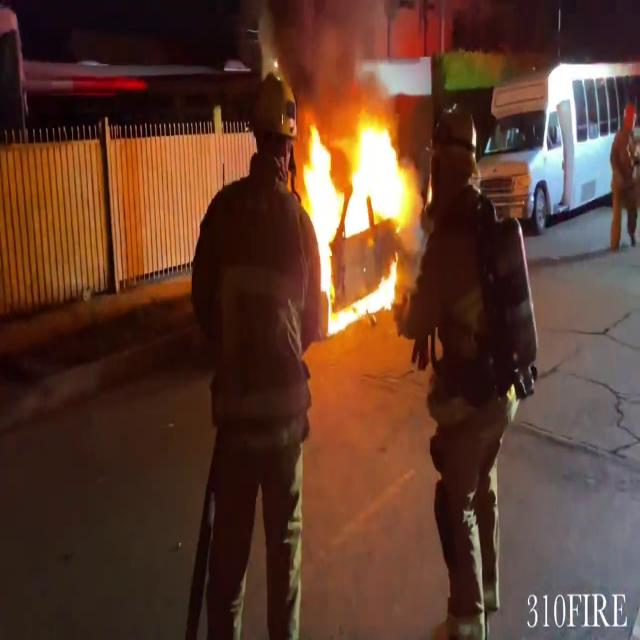Fire: (301, 102, 416, 337)
Smoke: (266, 0, 403, 143)
